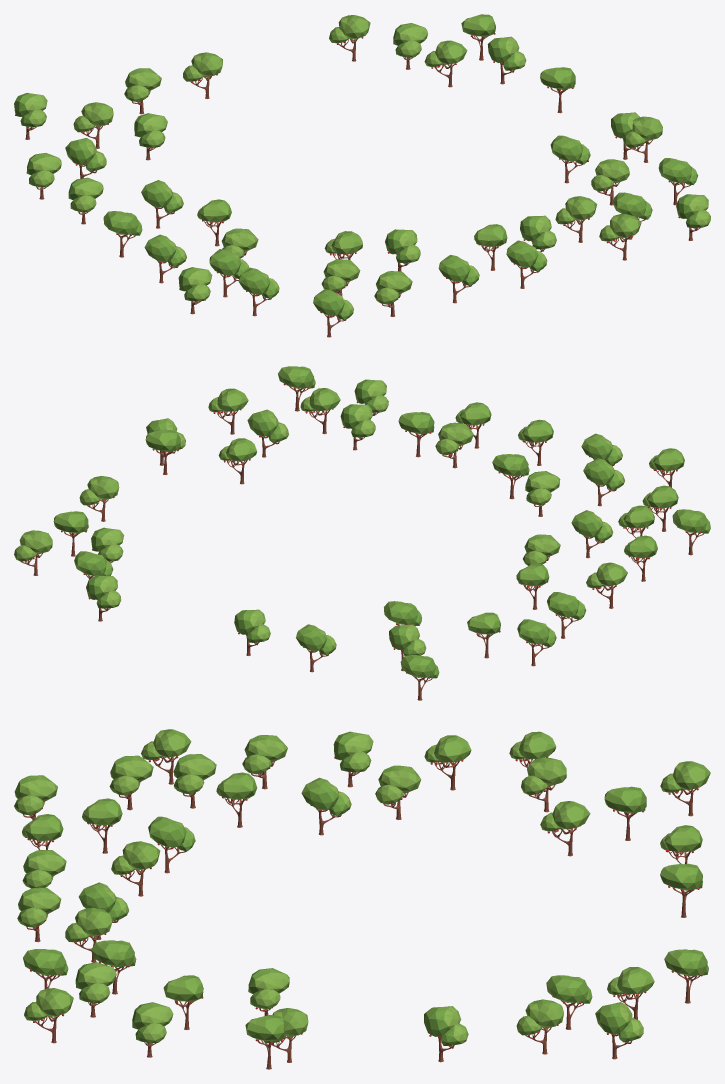
The model's file is Arvore conjunto.fbx.
3 views of the same model, one above another, from view 1: azimuth 30°, elevation 25°; view 2: azimuth 150°, elevation 25°; view 3: azimuth 270°, elevation 25° (orthographic). The views are drawn at different scales.
Parts seen in each view (by area): view 1: Macieira.036; view 2: Macieira.036; view 3: Macieira.036.
Part boxes in pixels (x1,y1,x2,y2): Macieira.036: (14, 14, 710, 337); Macieira.036: (14, 366, 710, 700); Macieira.036: (14, 729, 710, 1069).
Bounding box in the file's own units: 7839 × 625 × 7655.
